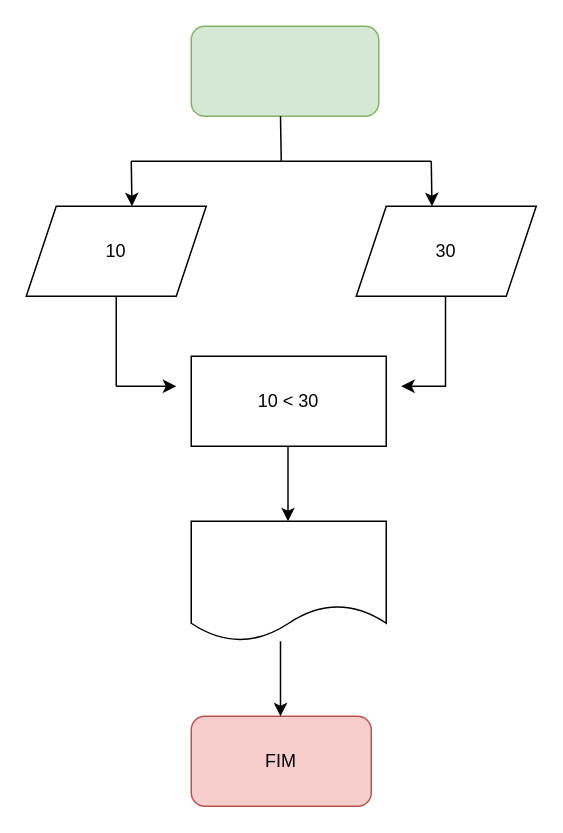
Some shapes in this 563 by 833 pixel diagram are drawn without their labels. Each missing label, with the centre of its shape:
"A DIFERENÇA É 20" goes at pixel 288 580.
"INÍCIO" goes at pixel 284 70.
